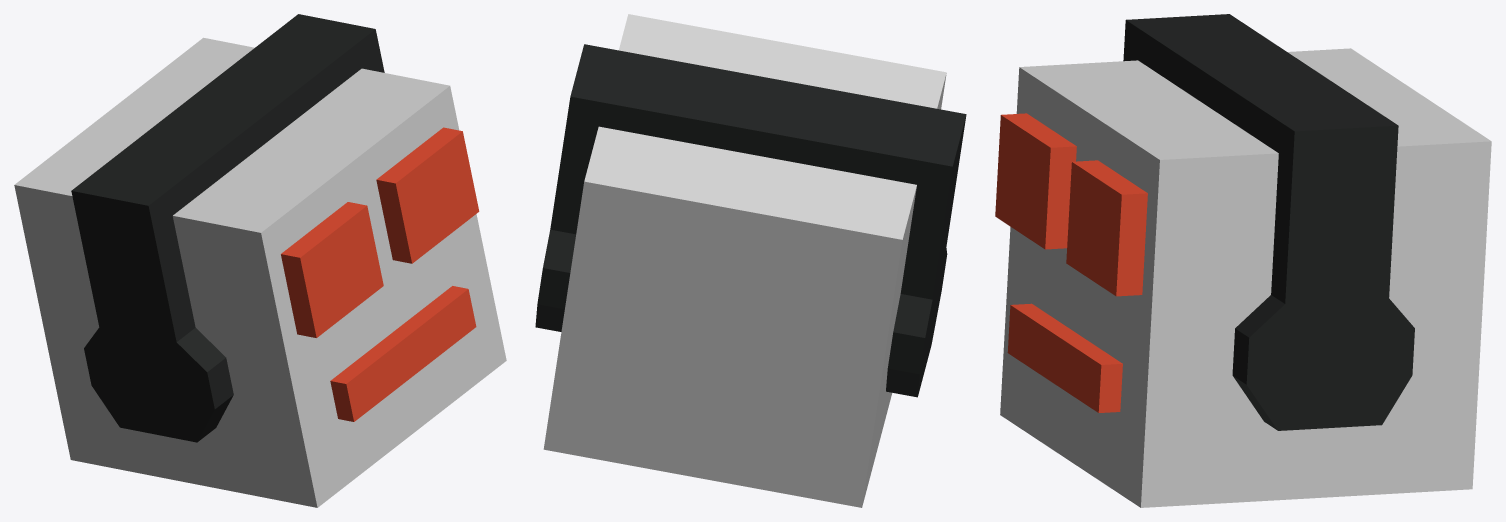
Rendered from BoxMan3.fbx.
3 renders of one model, left to right at view 1: azimuth 30°, elevation 25°; view 2: azimuth 150°, elevation 25°; view 3: azimuth 270°, elevation 25°, orthographic. The views are drawn at different scales.
Parts seen in each view (by area): view 1: Cube; view 2: Cube; view 3: Cube.
Part boxes in pixels (x1,y1,x2,y2): Cube: (14, 14, 506, 507); Cube: (535, 14, 966, 507); Cube: (995, 14, 1491, 507).
Bounding box in the file's own units: 294 × 261 × 276.
